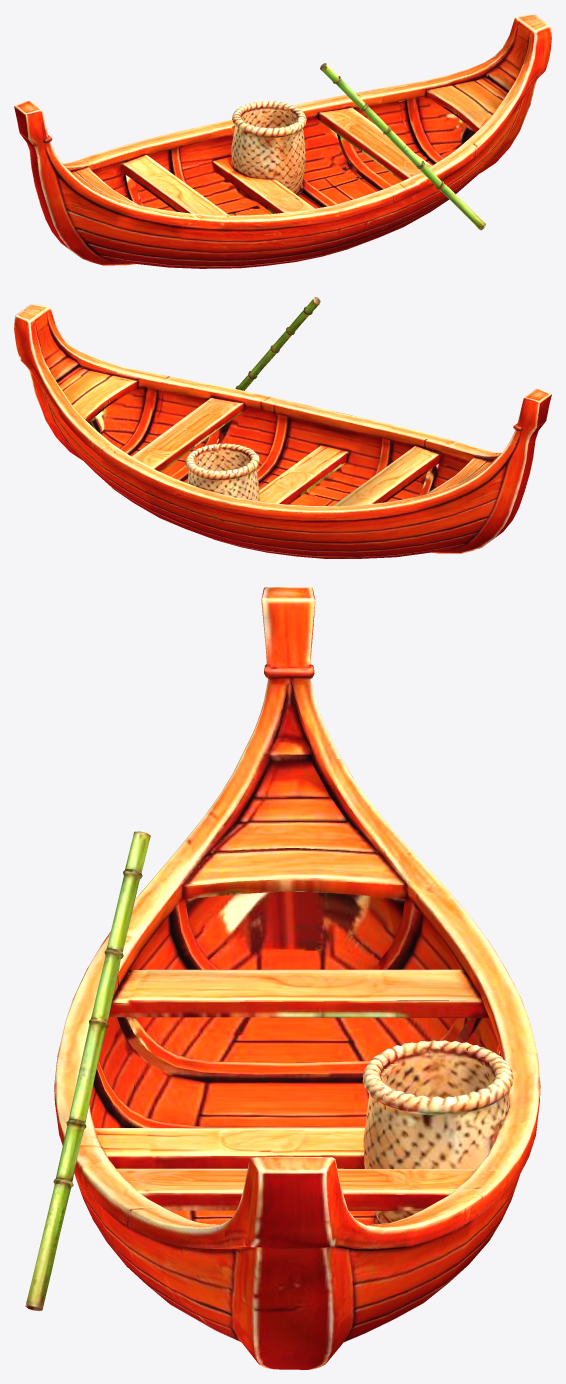
File: qm_rowboat_lo.glb
3 renders of one model, top to bottom at view 1: azimuth 30°, elevation 25°; view 2: azimuth 150°, elevation 25°; view 3: azimuth 270°, elevation 25°, orthographic. The views are drawn at different scales.
Visible parts, largest first — view 1: qm_rowboat; view 2: qm_rowboat; view 3: qm_rowboat.
Part boxes in pixels (x1,y1,x2,y2): qm_rowboat: (14, 14, 551, 268); qm_rowboat: (14, 297, 551, 558); qm_rowboat: (25, 587, 540, 1369).
Bounding box in the file's own units: 5 × 1.78 × 2.13.
Materials: 1 (1 with a texture image).
